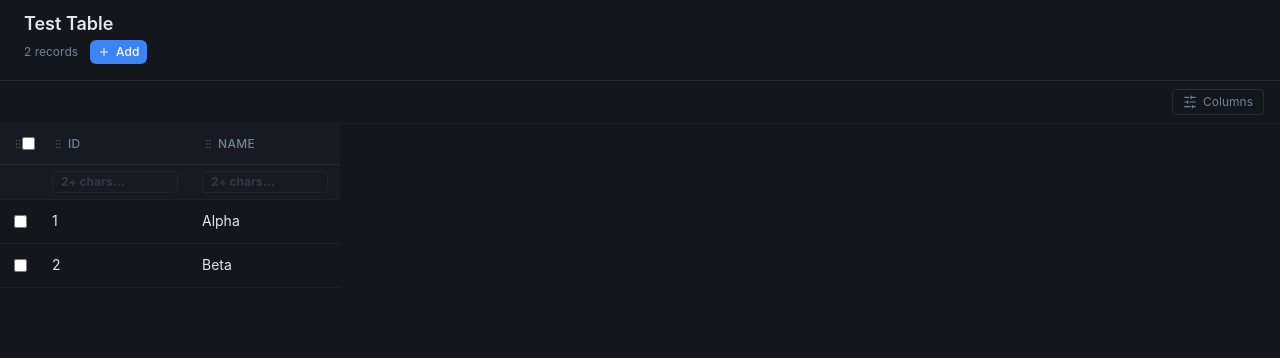
Test: TablePage bulk edit › shows bulk edit bar when rows are selected
Expected: the text "2 records" is shown, [24,44,78,60]
# First checkbox is "select all", rest are per-row
Step 1. Click the checkbox named "Select row 1" → (20, 221), box [14,214,26,228]
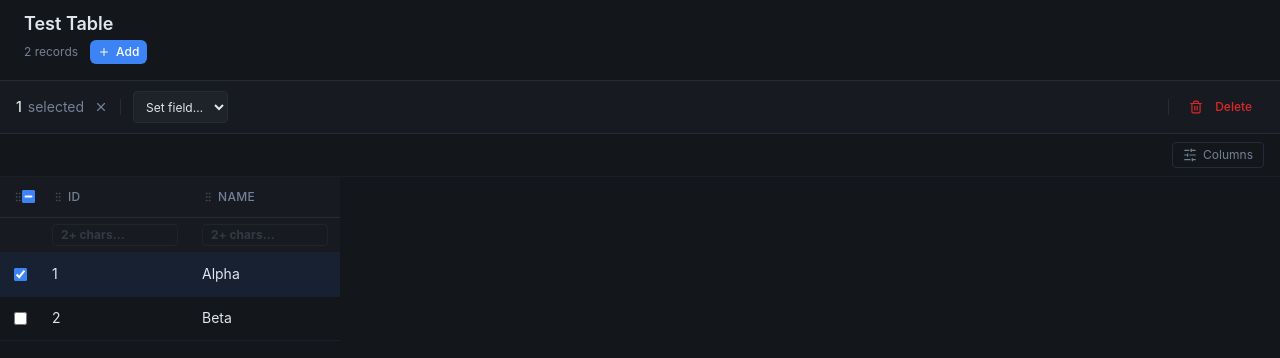
Now the element with test id "bulk-edit-bar" is shown, box [0,81,1279,134]
Now the text "1" is shown, box [16,97,22,117]
